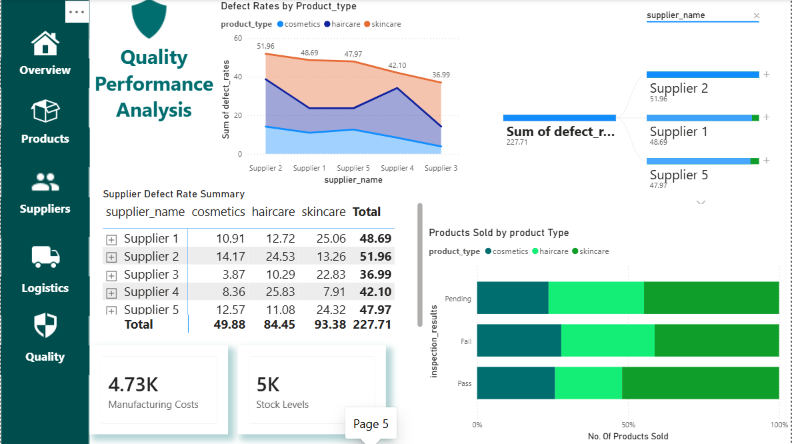

This screenshot's page, from the dashboard's own definition file:
{"tool":"powerbi","page":{"name":"Page 5","canvas":[1280,720],"ordinal":4},"visuals":[{"type":"shape","box":[0,0,144,720],"z":0},{"type":"textbox","box":[0,96,144,48],"z":1000},{"type":"textbox","box":[0,208,144,64],"z":2000},{"type":"textbox","box":[0,320,144,64],"z":3000},{"type":"textbox","box":[0,448,144,64],"z":4000},{"type":"textbox","box":[0,560,144,48],"z":5000},{"type":"image","box":[32,48,80,48],"z":6000},{"type":"image","box":[48,128,48,96],"z":7000},{"type":"image","box":[48,240,48,112],"z":8000},{"type":"image","box":[48,384,48,64],"z":9000},{"type":"image","box":[48,496,48,64],"z":10000},{"type":"image","box":[160,0,160,64],"z":11000},{"type":"textbox","box":[144,64,208,144],"z":12000},{"type":"decompositionTreeVisual","fields":{"Analyze":["Sum(public supply_chain.defect_rates)"],"ExplainBy":["public supply_chain.supplier_name","public supply_chain.location","public supply_chain.inspection_results","public supply_chain.product_type"]},"box":[784,0,496,336],"z":13000},{"type":"pivotTable","title":"Supplier Defect Rate Summary","fields":{"Rows":["public supply_chain.supplier_name","public supply_chain.inspection_results"],"Columns":["public supply_chain.product_type"],"Values":["Sum(public supply_chain.defect_rates)"]},"box":[160,304,528,240],"z":14000},{"type":"stackedAreaChart","title":"Defect Rates by Product_type","fields":{"Category":["public supply_chain.supplier_name"],"Y":["Sum(public supply_chain.defect_rates)"],"Series":["public supply_chain.product_type"]},"box":[352,0,400,304],"z":15000},{"type":"hundredPercentStackedBarChart","title":"Products Sold by product Type","fields":{"Category":["public supply_chain.inspection_results","public supply_chain.sku"],"Series":["public supply_chain.product_type"],"Y":["public supply_chain.No. Of Products Sold"]},"box":[688,368,592,352],"z":16000},{"type":"cardVisual","fields":{"Data":["Sum(public supply_chain.manufacturing_costs)"]},"box":[144,560,224,144],"z":18000},{"type":"cardVisual","fields":{"Data":["Sum(public supply_chain.stock_levels)"]},"box":[384,560,240,144],"z":19000}]}

Visuals, with their boxes on the page's 1280x720 design canvas (x1, y1, x2, y2). These are canvas units, not pixel positions in the 792x444 screenshot, which may show the page scaled, cropped or inside an application window:
shape: crop(0, 0, 144, 720)
textbox: crop(0, 96, 144, 144)
textbox: crop(0, 208, 144, 272)
textbox: crop(0, 320, 144, 384)
textbox: crop(0, 448, 144, 512)
textbox: crop(0, 560, 144, 608)
image: crop(32, 48, 112, 96)
image: crop(48, 128, 96, 224)
image: crop(48, 240, 96, 352)
image: crop(48, 384, 96, 448)
image: crop(48, 496, 96, 560)
image: crop(160, 0, 320, 64)
textbox: crop(144, 64, 352, 208)
decompositionTreeVisual - Sum(public supply_chain.defect_rates) x public supply_chain.supplier_name: crop(784, 0, 1280, 336)
"Supplier Defect Rate Summary" pivotTable: crop(160, 304, 688, 544)
"Defect Rates by Product_type" stackedAreaChart: crop(352, 0, 752, 304)
"Products Sold by product Type" hundredPercentStackedBarChart: crop(688, 368, 1280, 720)
cardVisual - Sum(public supply_chain.manufacturing_costs): crop(144, 560, 368, 704)
cardVisual - Sum(public supply_chain.stock_levels): crop(384, 560, 624, 704)
